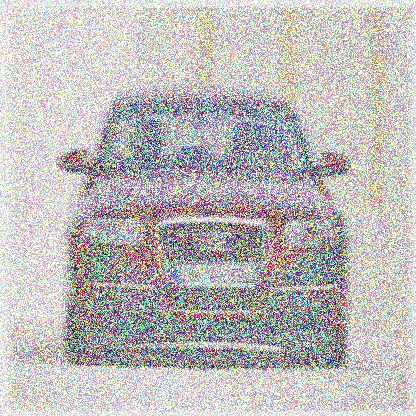Vehicle: (58, 87, 353, 370)
